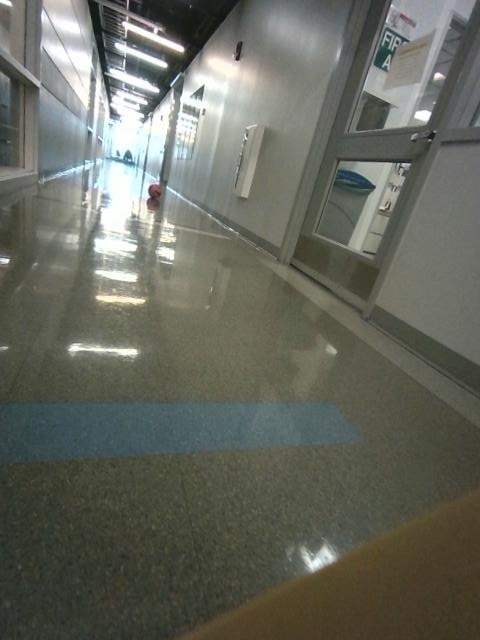ball: (148, 183, 162, 197)
